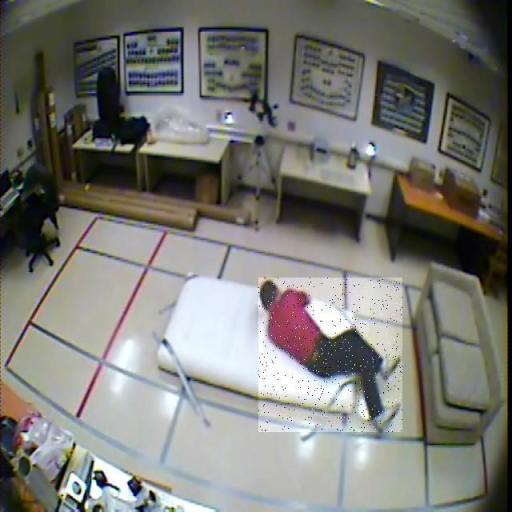Fall: (259, 278, 403, 432)
